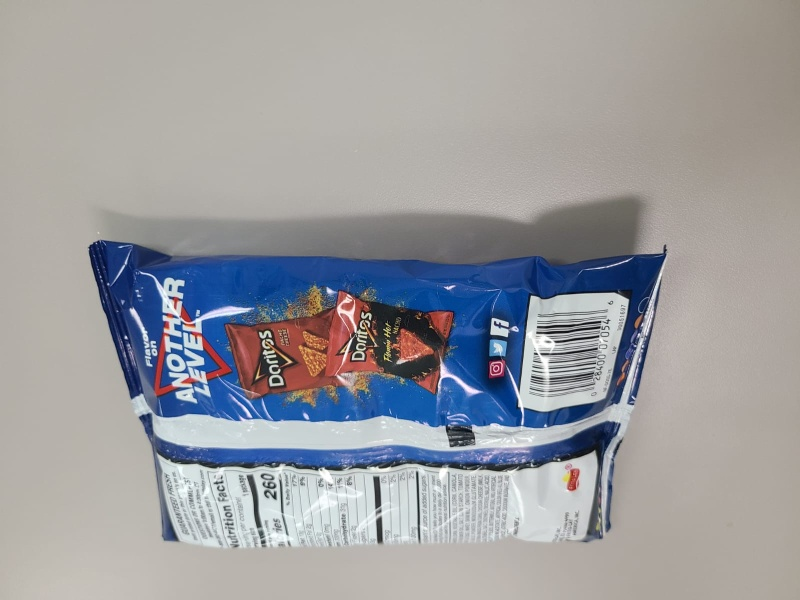doritos: (88, 240, 668, 551)
